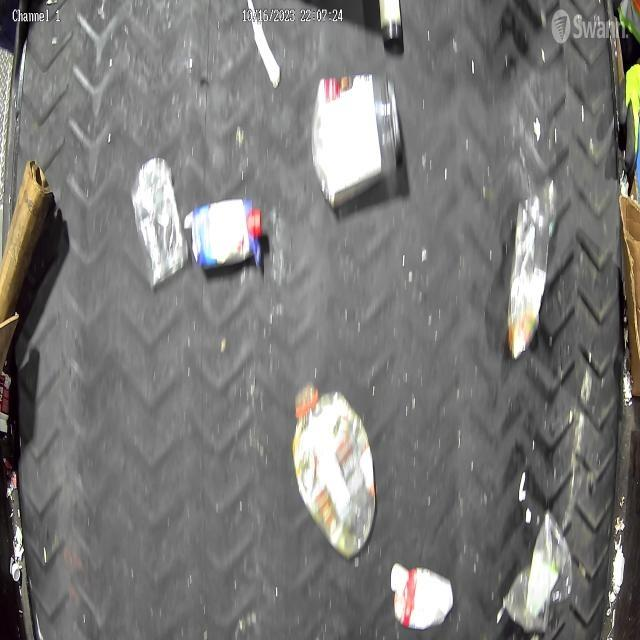plastic_bottle: (294, 380, 376, 556), (507, 174, 557, 359)
